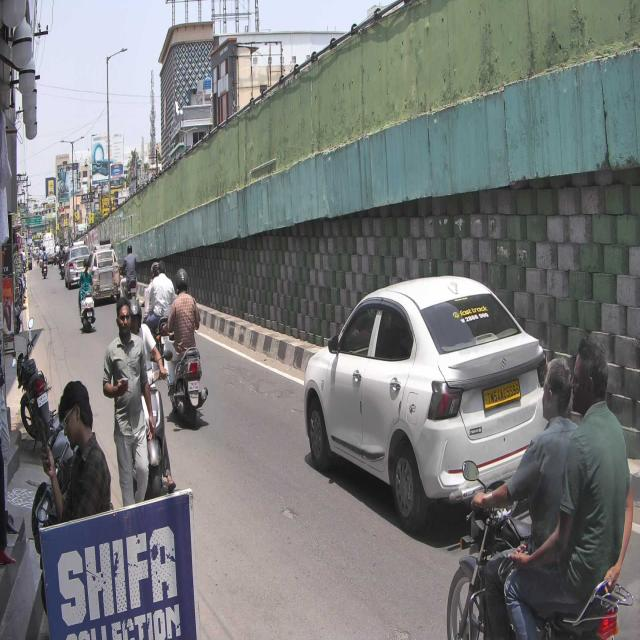double_rider: (445, 335, 635, 640)
